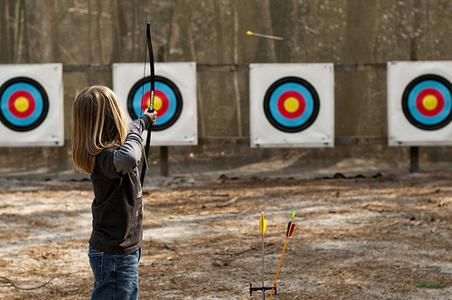person: (70, 87, 161, 300)
